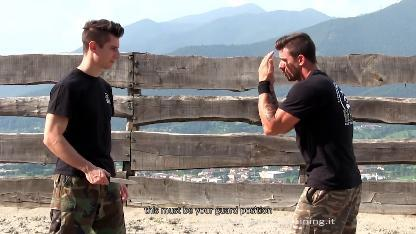knife: (86, 166, 140, 188)
